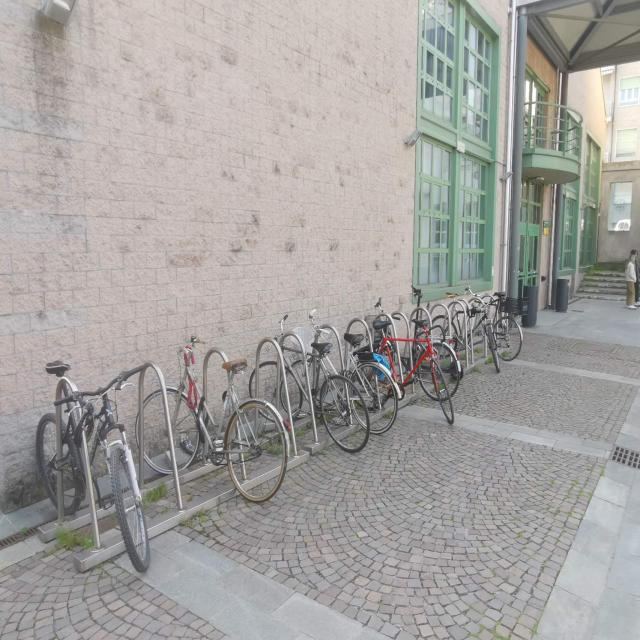Bicycle: (128, 329, 296, 509), (28, 354, 155, 579), (243, 314, 372, 460), (288, 309, 398, 439), (350, 319, 456, 429), (430, 292, 506, 386), (468, 284, 532, 366)
